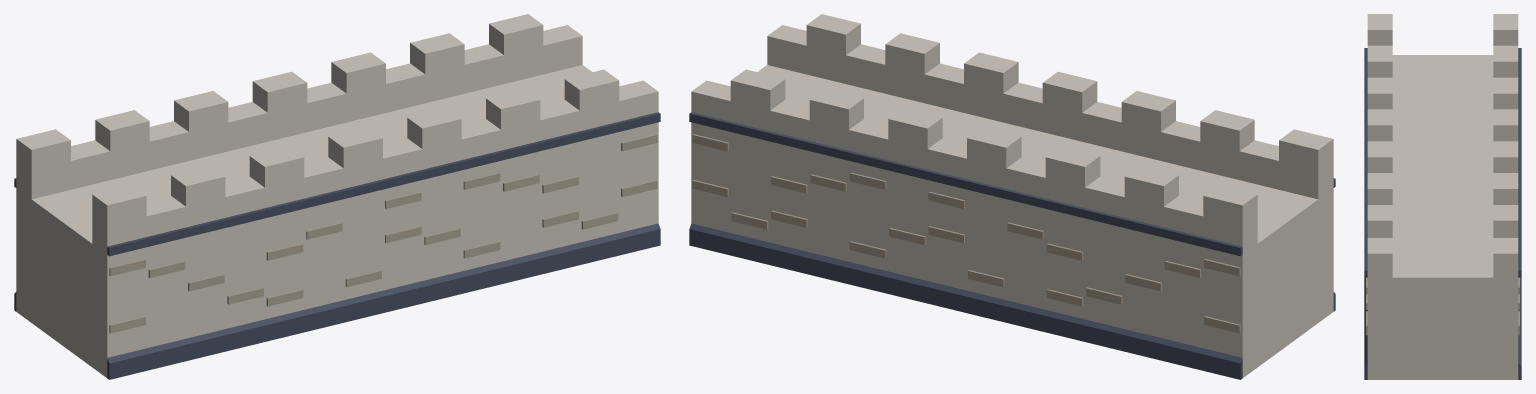
The model's file is Rampart_Corridor_01.fbx.
3 views of the same model, side by side, from view 1: azimuth 30°, elevation 25°; view 2: azimuth 150°, elevation 25°; view 3: azimuth 270°, elevation 25° (orthographic). The views are drawn at different scales.
Parts seen in each view (by area): view 1: Rampart_Corridor_01; view 2: Rampart_Corridor_01; view 3: Rampart_Corridor_01.
Part boxes in pixels (x1=…): Rampart_Corridor_01: x1=14, y1=14, x2=660, y2=379; Rampart_Corridor_01: x1=689, y1=14, x2=1335, y2=379; Rampart_Corridor_01: x1=1364, y1=14, x2=1521, y2=379.
Bounding box in the file's own units: 1400 × 420 × 418.
1 material, 1 textured.
